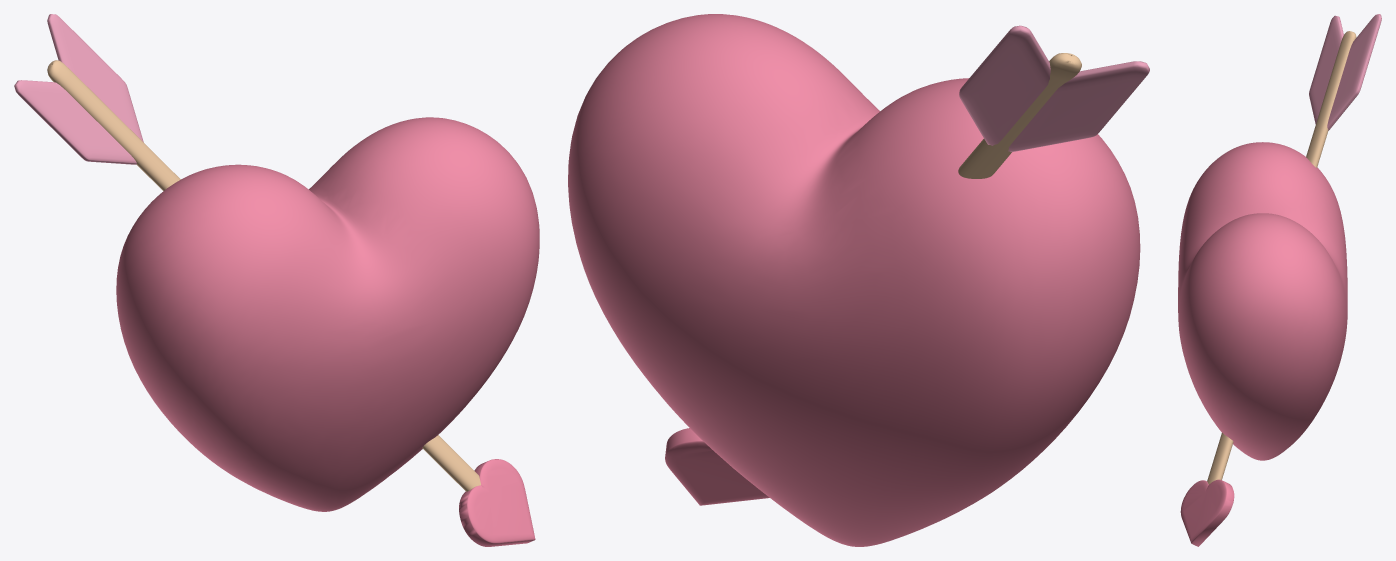
File: heart_with_arrow.glb
3 renders of one model, left to right at view 1: azimuth 30°, elevation 25°; view 2: azimuth 150°, elevation 25°; view 3: azimuth 270°, elevation 25°, orthographic. The views are drawn at different scales.
Visible parts, largest first — view 1: 0008_01_0, 0008_02_0, 0008_03_0; view 2: 0008_01_0, 0008_02_0, 0008_03_0; view 3: 0008_01_0, 0008_02_0, 0008_03_0.
Part boxes in pixels (<box>): 0008_01_0: <box>116,117,539,546</box>; 0008_02_0: <box>14,14,143,164</box>; 0008_03_0: <box>47,60,480,491</box>; 0008_01_0: <box>568,14,1140,546</box>; 0008_02_0: <box>959,25,1149,151</box>; 0008_03_0: <box>958,53,1081,178</box>; 0008_01_0: <box>1178,142,1347,546</box>; 0008_02_0: <box>1309,14,1381,130</box>; 0008_03_0: <box>1207,31,1356,484</box>.
Bounding box in the file's own units: 2.47 × 2.7 × 1.25.
